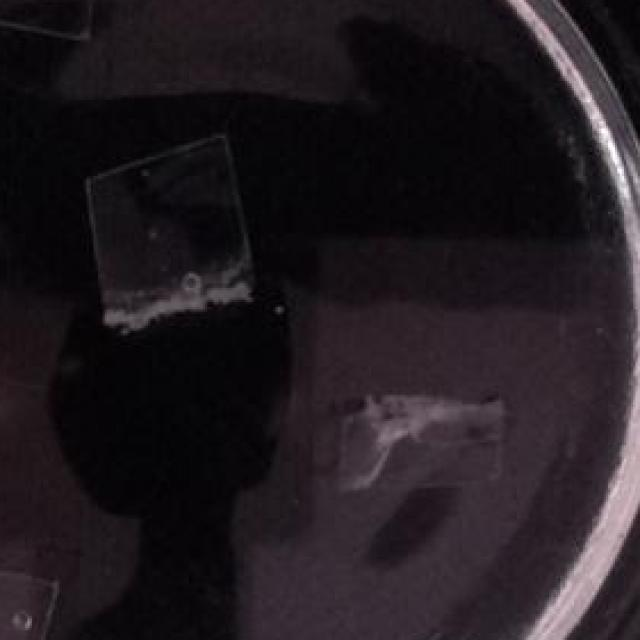Microplastic: (77, 121, 262, 338), (321, 388, 517, 492)
